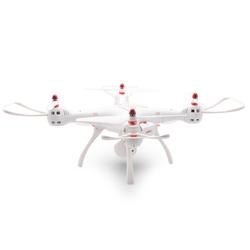drone: (2, 69, 246, 191)
